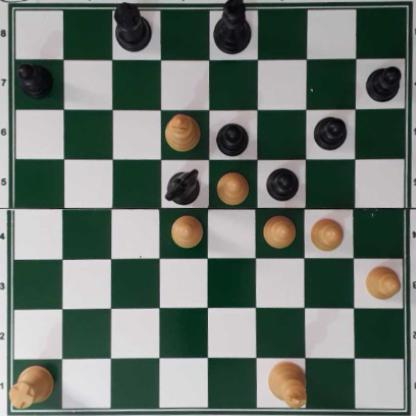black-king: (211, 0, 252, 56)
black-knight: (165, 166, 201, 205)
black-pawn: (365, 64, 402, 103), (16, 61, 52, 97), (214, 119, 249, 156), (265, 165, 300, 201), (313, 115, 347, 150)
black-rook: (112, 1, 154, 50)
white-bishop: (164, 110, 200, 152)
white-king: (267, 359, 307, 408)
white-pawn: (365, 265, 402, 299), (213, 170, 250, 204), (310, 216, 345, 251), (262, 214, 296, 249), (169, 215, 203, 248)
white-rook: (8, 364, 56, 408)
